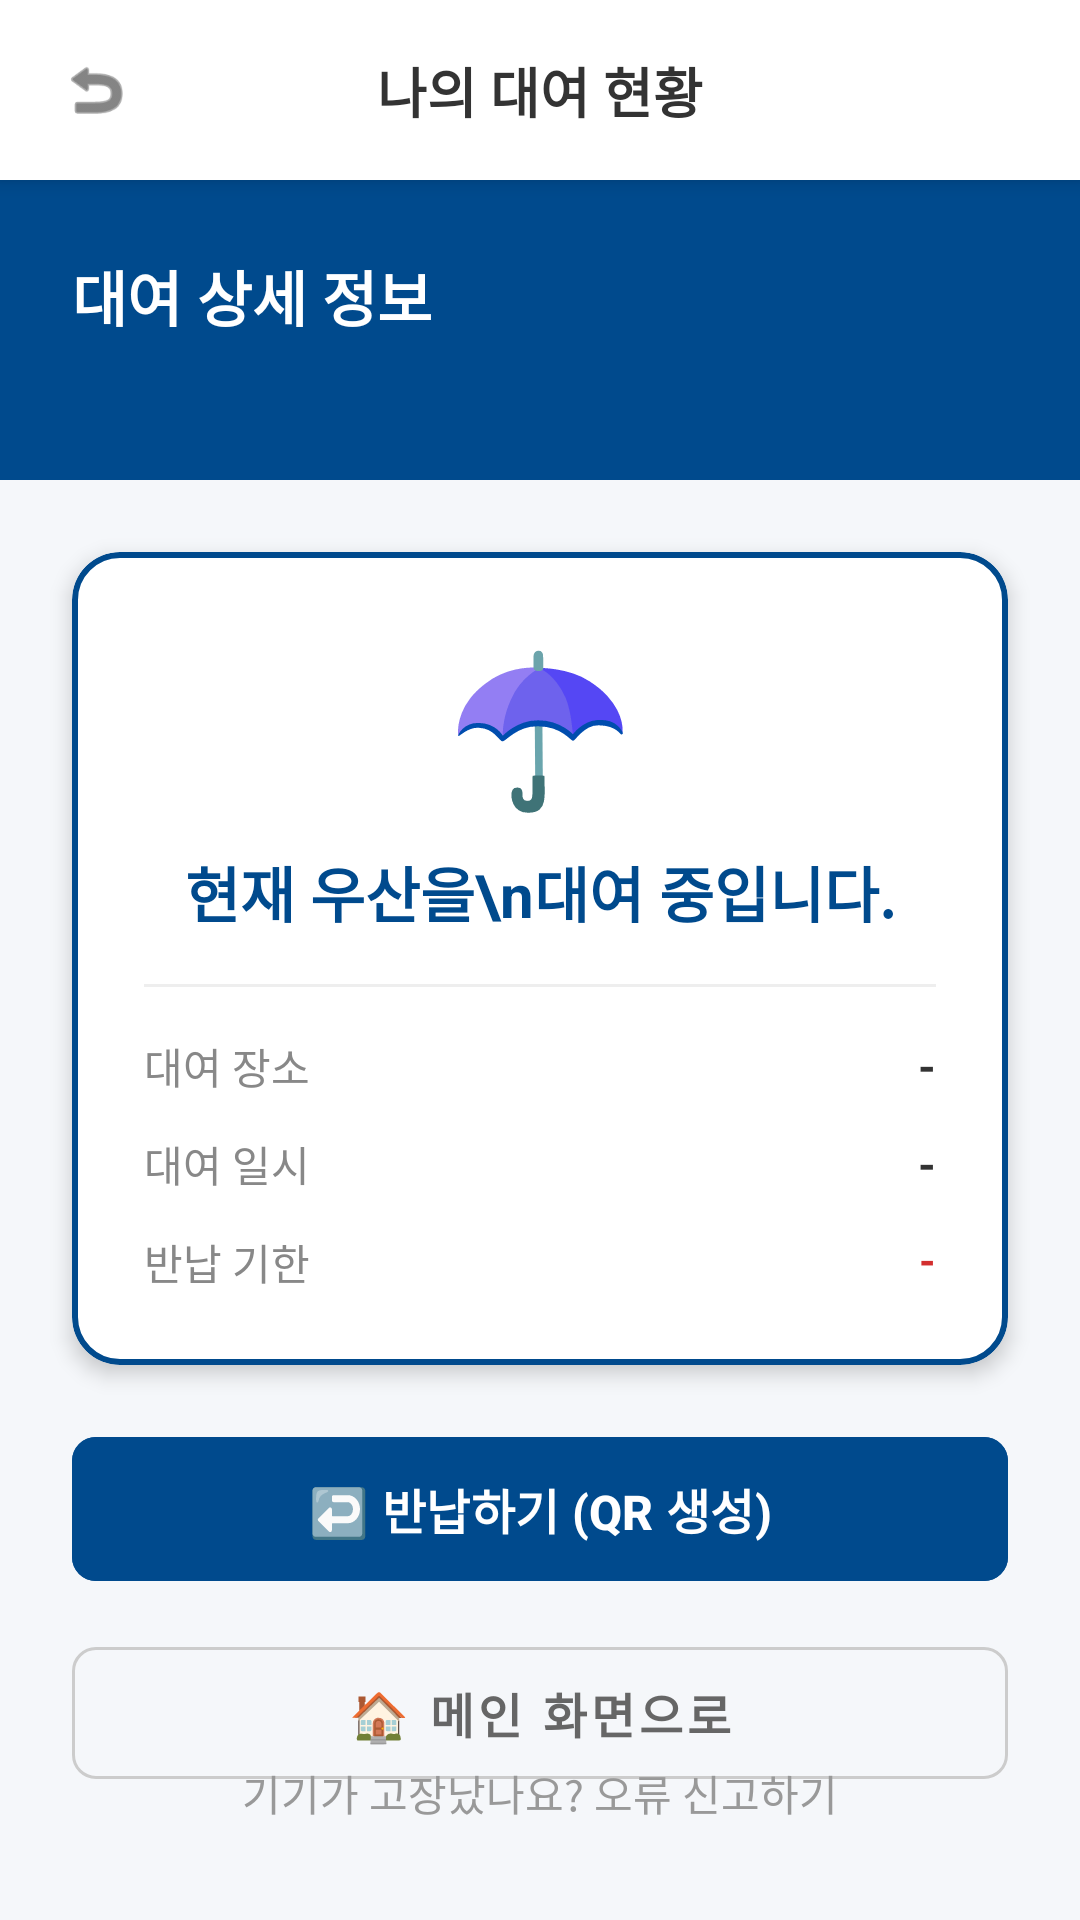

Where to tap for icons on this 1080px×1920px app screen, as (x=x, y=y):
revert: (x=97, y=90)
